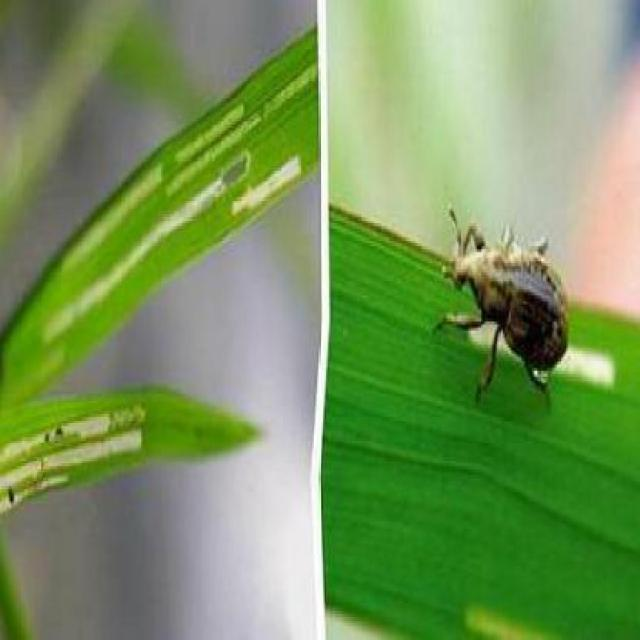rice-bug: (442, 210, 570, 392)
